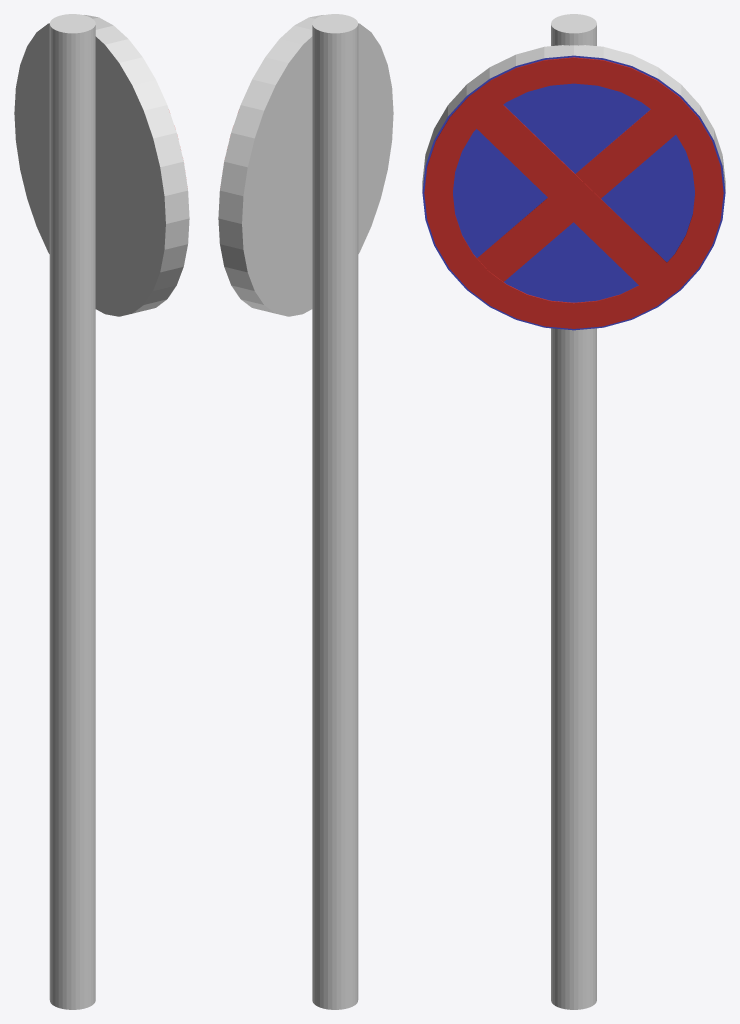
File: SignNoParkingOrStopping.fbx
3 views of the same model, side by side, from view 1: azimuth 30°, elevation 25°; view 2: azimuth 150°, elevation 25°; view 3: azimuth 270°, elevation 25° (orthographic).
Visible parts, largest first — view 1: Cylinder.017, SignCircle.022; view 2: Cylinder.017, SignCircle.022; view 3: Cylinder.017, SignCircle.022, SignCircle.023, TextStop.013, TextStop.009.
Boxes of the visible parts, x1,y1,x2,y2 form: Cylinder.017: [49, 14, 95, 1009]; SignCircle.022: [14, 15, 189, 316]; Cylinder.017: [312, 14, 358, 1009]; SignCircle.022: [218, 15, 393, 316]; Cylinder.017: [551, 14, 596, 1009]; SignCircle.022: [422, 45, 725, 330]; SignCircle.023: [424, 57, 723, 328]; TextStop.013: [476, 105, 666, 285]; TextStop.009: [477, 109, 675, 281].
Bounding box in the file's own units: 111 × 1671 × 470.
